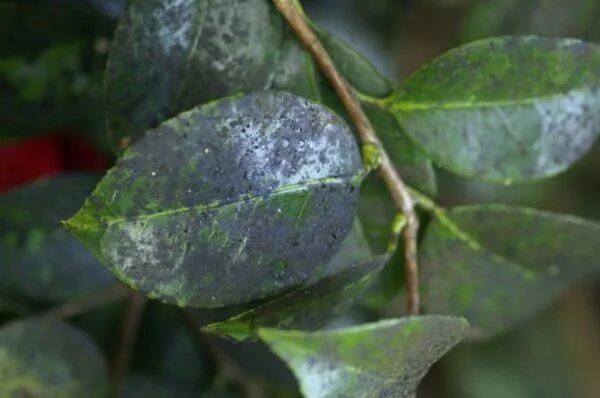soot dew: (67, 92, 361, 307), (392, 36, 599, 182), (105, 0, 283, 144), (421, 205, 599, 337), (258, 315, 468, 397)
